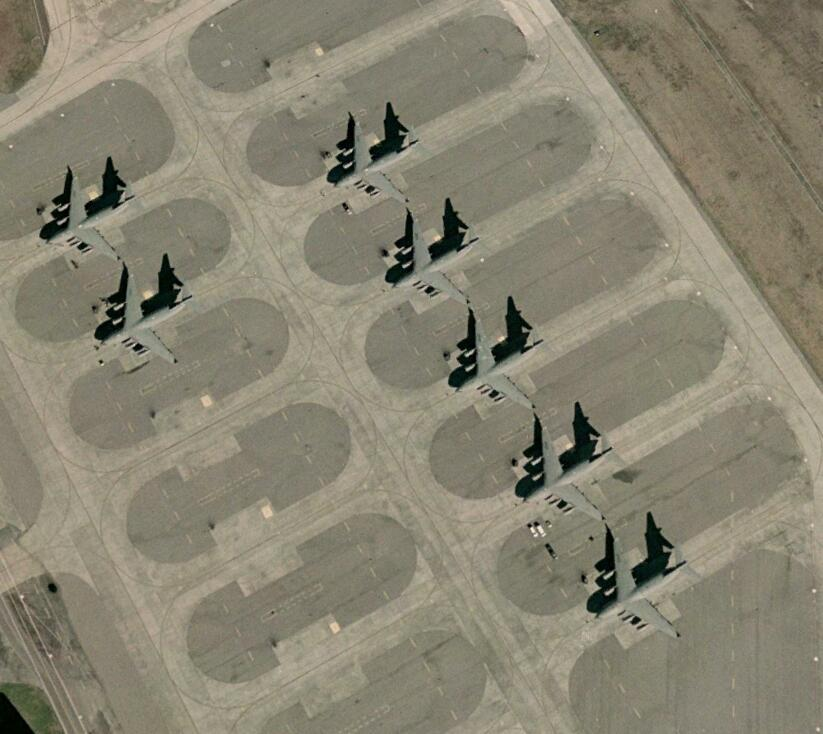A3: (586, 536, 696, 639), (512, 421, 621, 523), (94, 272, 196, 363), (42, 174, 142, 265), (381, 214, 484, 302), (325, 120, 431, 205), (451, 317, 545, 408)
